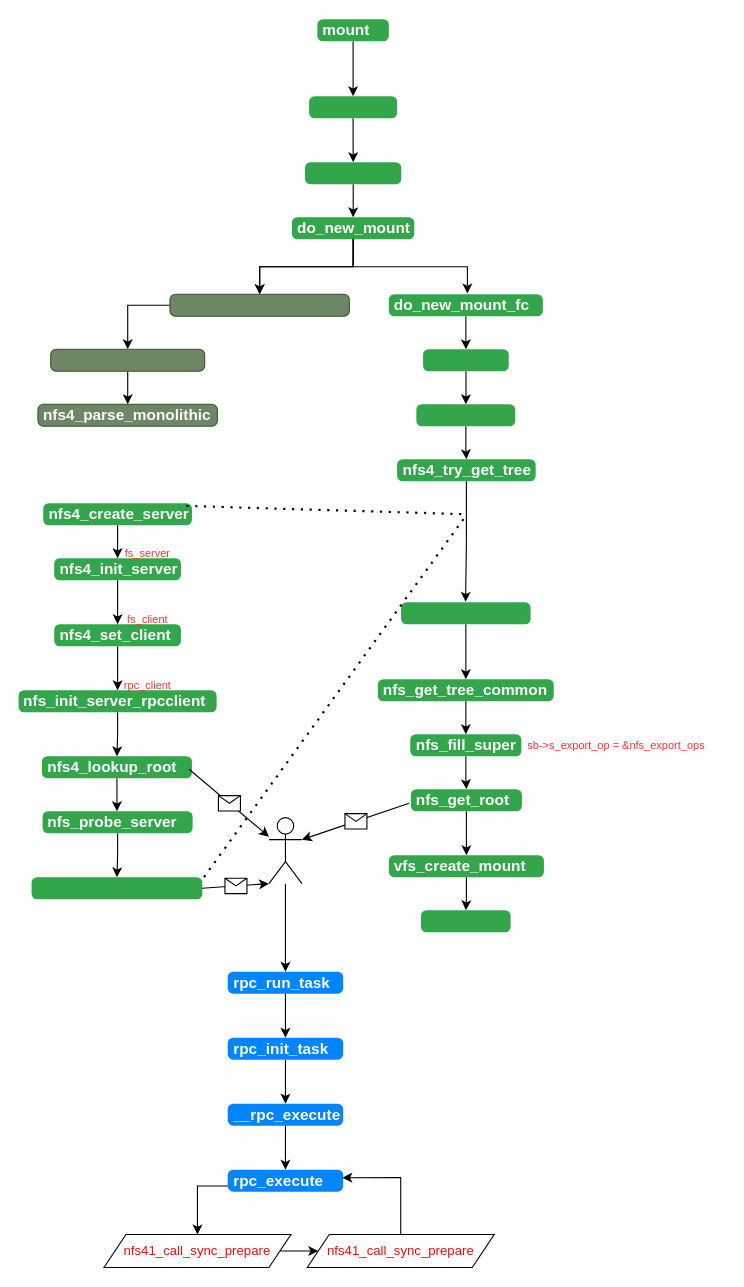
Some shapes in this 744 by 1287 pixel diagram are drawn without their labels. The shapes that lost their labels are listed below. From the top down, each one's box as (x1, y1, x2, y2) in pixels, then its label:
(309, 96, 397, 118): do_mount
(304, 162, 401, 184): path_mount
(169, 293, 349, 316): fs_context_for_mount
(50, 348, 205, 371): nfs_init_fs_context
(423, 349, 508, 371): fc_mount
(416, 404, 515, 426): nfs_get_tree
(401, 602, 530, 624): do_nfs4_mount
(268, 817, 302, 884): RPC
(31, 877, 202, 899): nfs4_xdr_enc_fsinfo
(420, 910, 510, 932): setup_mnt
